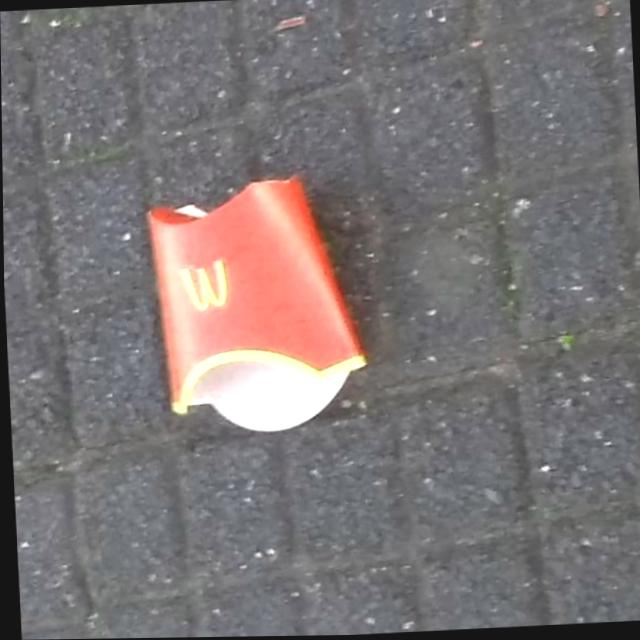Paper: (139, 169, 372, 443)
